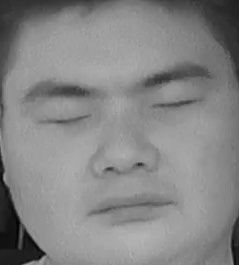blink: (34, 104, 93, 139), (152, 87, 203, 121)
mouth: (85, 183, 181, 233)
